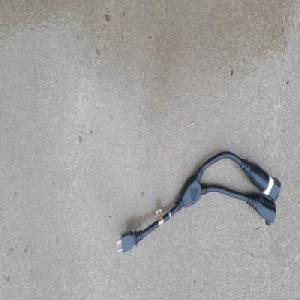Wire: (114, 150, 281, 256)
